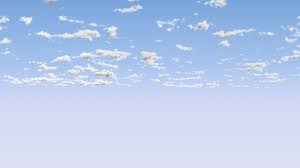sky: (1, 1, 300, 165)
